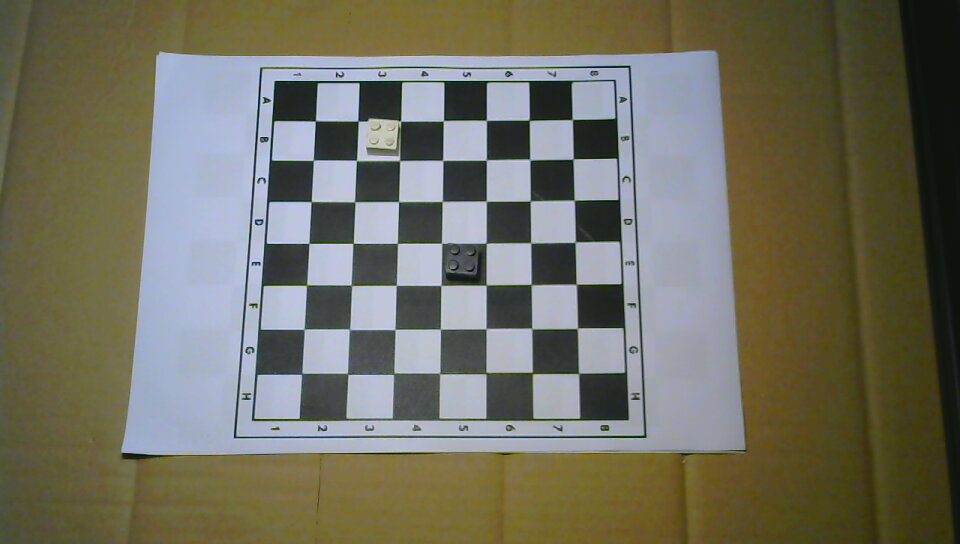bp: (443, 241, 482, 282)
wp: (363, 115, 401, 157)
